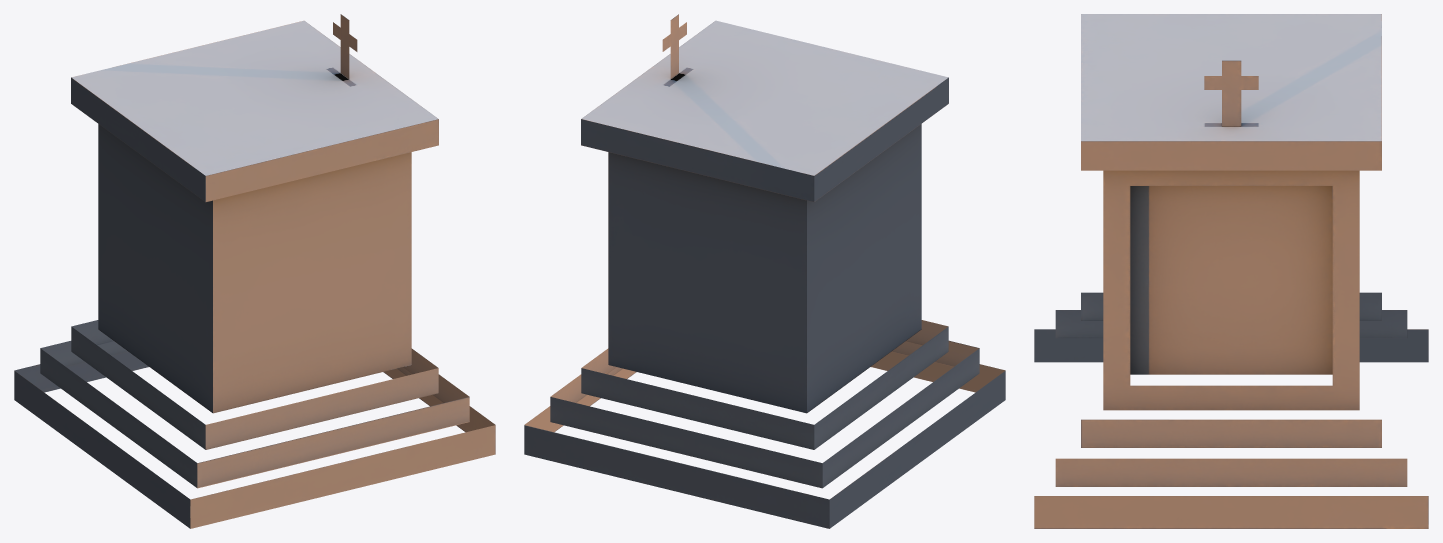
3 renders of one model, left to right at view 1: azimuth 30°, elevation 25°; view 2: azimuth 150°, elevation 25°; view 3: azimuth 270°, elevation 25°, orthographic. The views are drawn at different scales.
Visible parts, largest first — view 1: Tombe 4 low; view 2: Tombe 4 low; view 3: Tombe 4 low.
Boxes of the visible parts, left/top/right/bottom form: Tombe 4 low: left=14, top=14, right=495, bottom=528; Tombe 4 low: left=524, top=14, right=1005, bottom=528; Tombe 4 low: left=1034, top=14, right=1428, bottom=528.
Size of the model in its own units: 3.07 by 3.73 by 3.07.
Materials: 1 (1 with a texture image).
